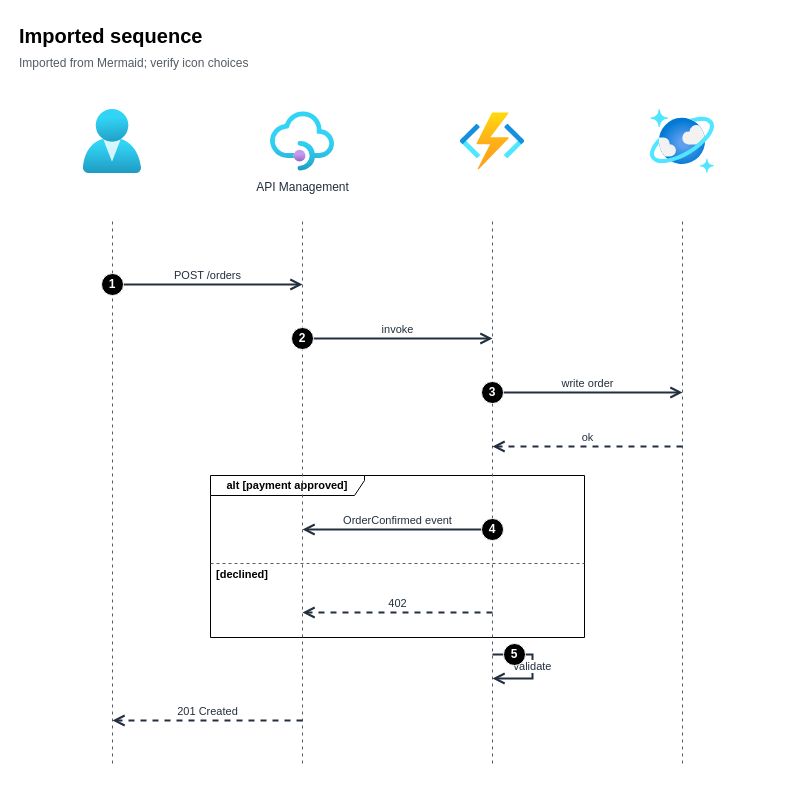
The diagram is 794 pixels wide and 786 high, and some of its shapes have lost their labels. Each missing label, with the centre of its shape:
Cosmos DB: (x=682, y=141)
Customer: (x=112, y=141)
Orders Function App: (x=492, y=141)
